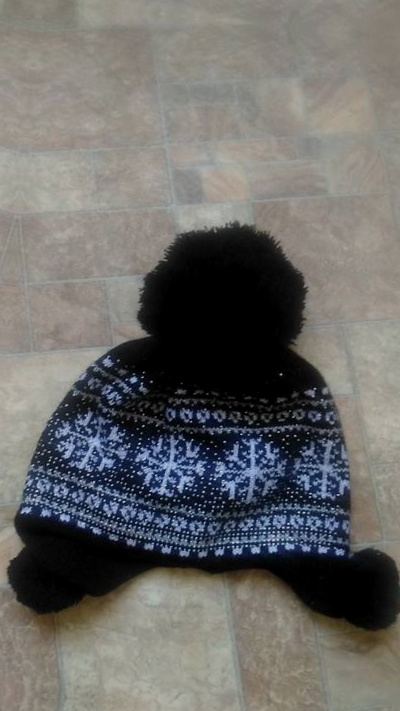Hat: (0, 184, 400, 683), (0, 140, 19, 639)
